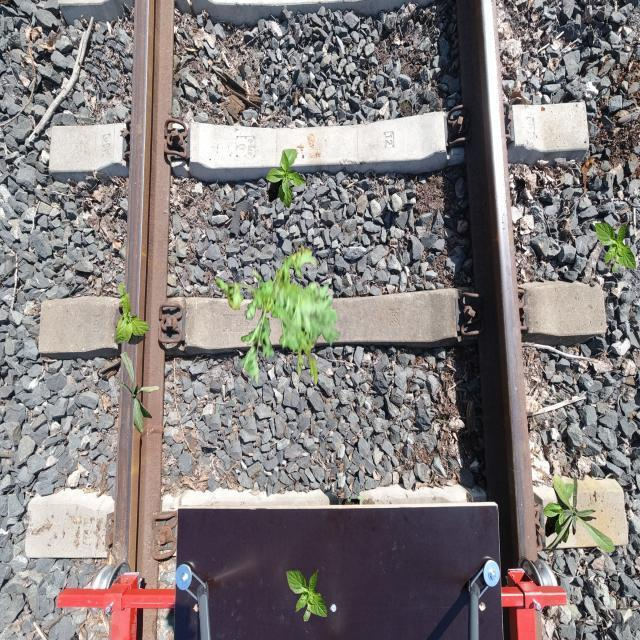Plant: (216, 242, 341, 389), (544, 474, 616, 555), (120, 351, 160, 434), (543, 483, 585, 543), (266, 149, 308, 209), (286, 568, 328, 622), (595, 220, 636, 274), (115, 282, 150, 344)
